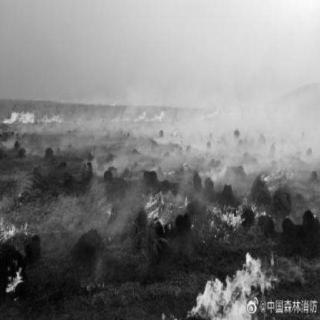Fire: (125, 168, 288, 240), (0, 94, 69, 138)
